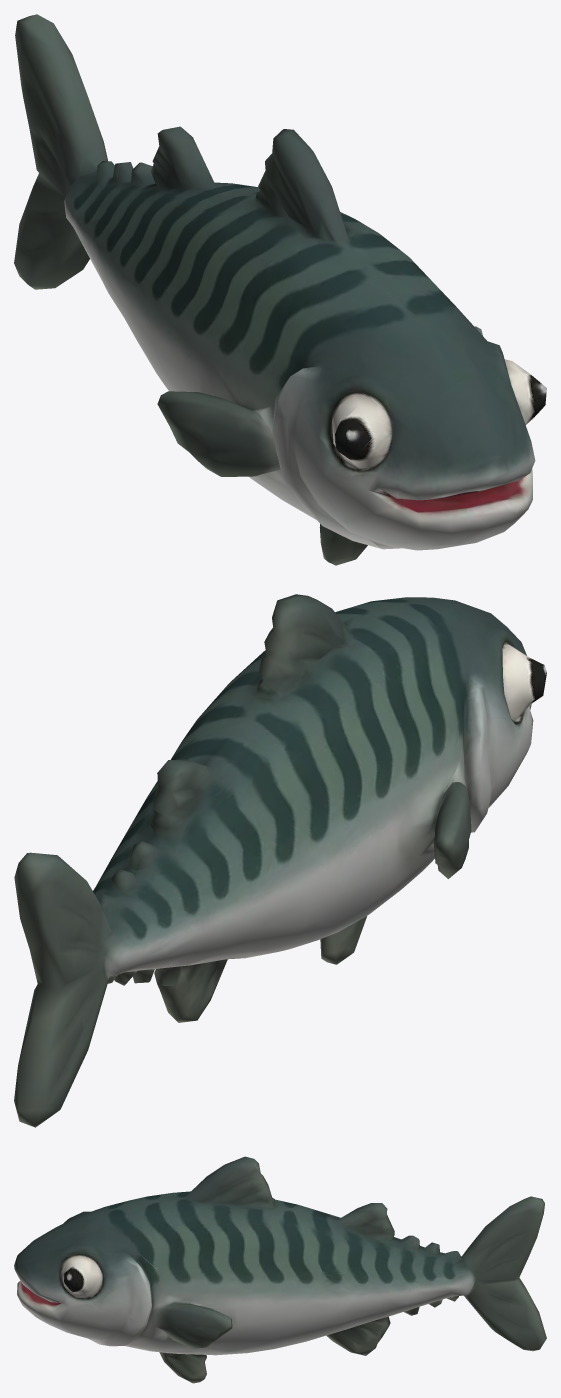
File: fish-mackerel.glb
The picture shows the model from 3 angles, top to bottom: view 1: azimuth 30°, elevation 25°; view 2: azimuth 150°, elevation 25°; view 3: azimuth 270°, elevation 25°; orthographic projection. The views are drawn at different scales.
Visible parts, largest first — view 1: tripo_node_6bccf48d-ec58-4771-82c1-f4ea613e5791; view 2: tripo_node_6bccf48d-ec58-4771-82c1-f4ea613e5791; view 3: tripo_node_6bccf48d-ec58-4771-82c1-f4ea613e5791.
Part boxes in pixels (left/top/right/bottom): tripo_node_6bccf48d-ec58-4771-82c1-f4ea613e5791: left=14, top=14, right=546, bottom=565; tripo_node_6bccf48d-ec58-4771-82c1-f4ea613e5791: left=14, top=594, right=546, bottom=1127; tripo_node_6bccf48d-ec58-4771-82c1-f4ea613e5791: left=14, top=1156, right=546, bottom=1383.
Size of the model in its own units: 0.3605 by 0.4611 by 1.
1 material, 1 textured.
